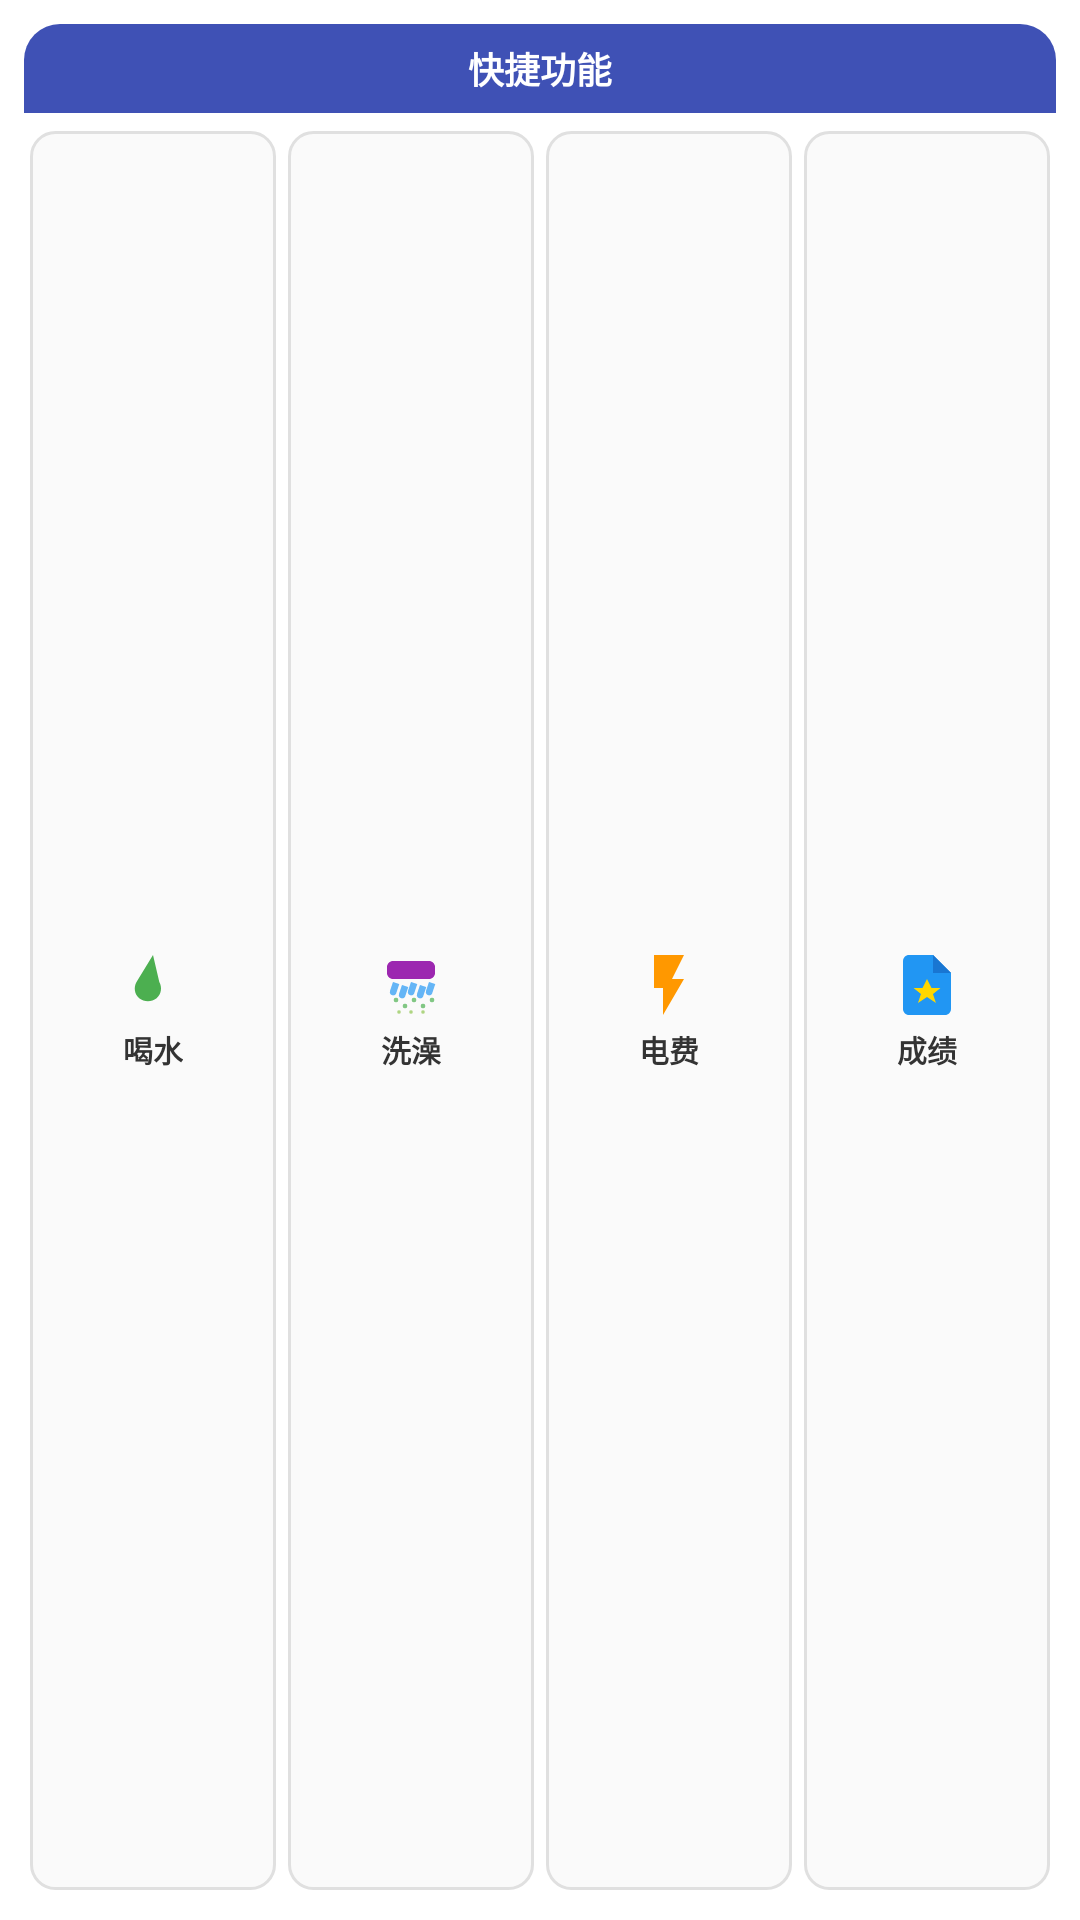

Where to tap for icons on this 1080w x 1920h app screen, as [x,y]:
flash: [669,985]
water drop: [147,978]
